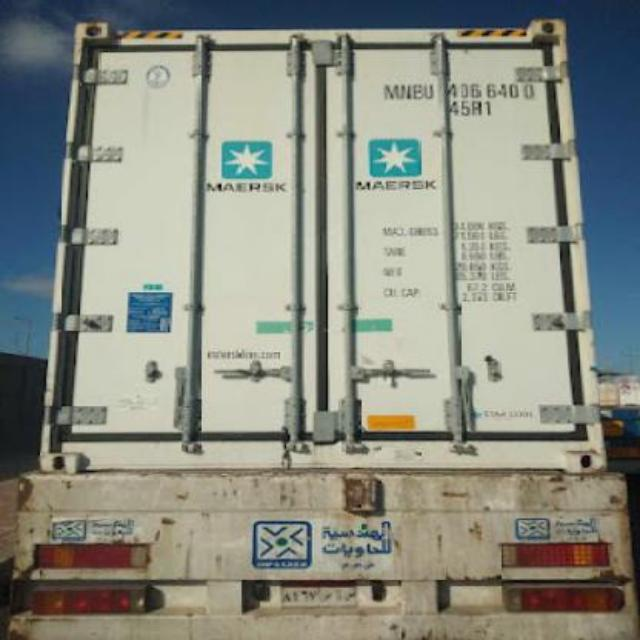0: (520, 76, 536, 105), (506, 76, 522, 102), (458, 72, 468, 100)
4: (444, 78, 458, 100), (496, 76, 508, 100)
6: (468, 72, 482, 98), (484, 76, 498, 100)
B: (412, 78, 422, 105)
M: (382, 73, 398, 105)
N: (398, 79, 412, 105)
U: (422, 76, 434, 105)
